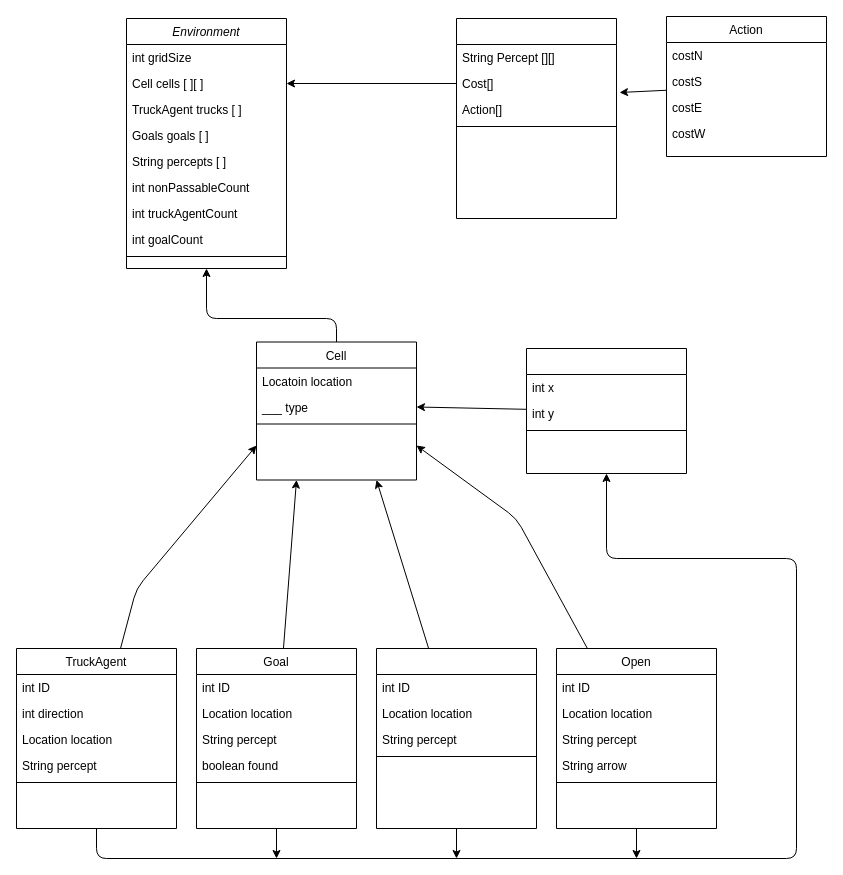
The diagram is 843 pixels wide and 875 high, and some of its shapes have lost their labels. Each missing label, with the box of its shape:
Blocked: (376, 648, 536, 828)
Location: (526, 348, 686, 474)
MoveAgent: (456, 18, 616, 218)
